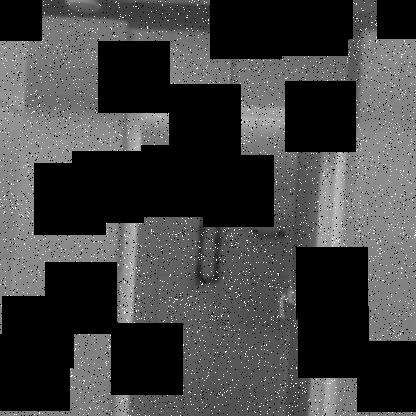Porte: (112, 97, 353, 415)
